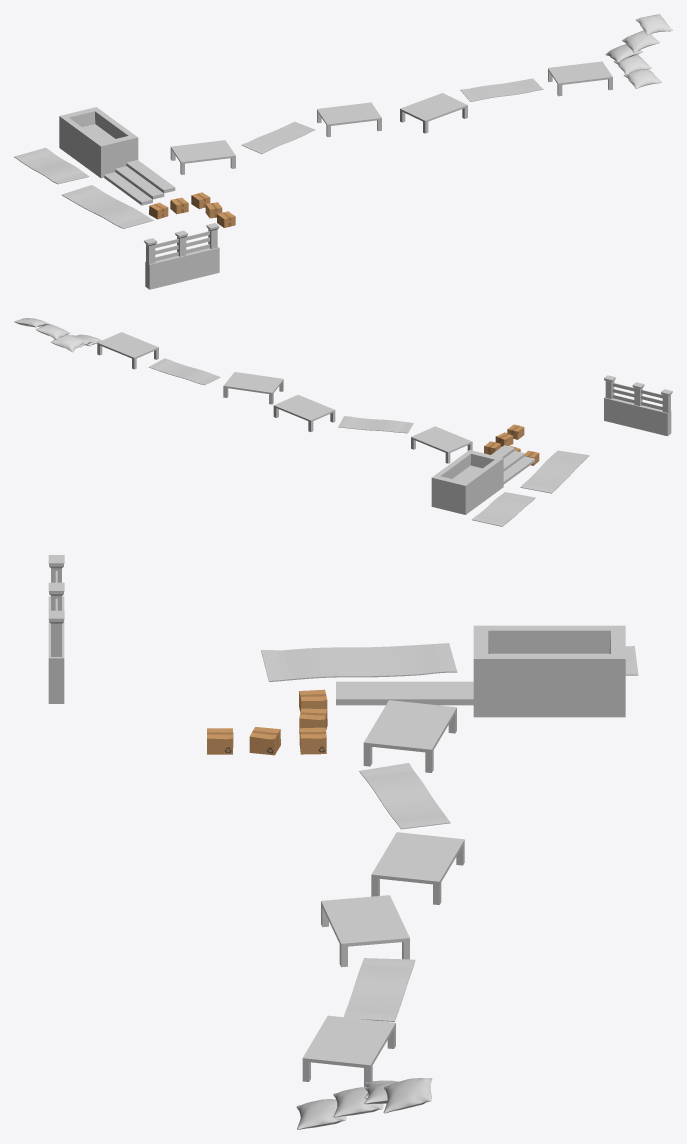
Rendered from ROOMlava.fbx.
The picture shows the model from 3 angles, top to bottom: view 1: azimuth 30°, elevation 25°; view 2: azimuth 150°, elevation 25°; view 3: azimuth 270°, elevation 25°; orthographic projection. The views are drawn at different scales.
Visible parts, largest first — view 1: lavaBox, Cube.003, Cube.015, Cube.014, Cube.023, Cube.019, Cube.024, Cube.022, Cube.026, Cube.025, Cube.017, Cube.018 (+5 smaller); view 2: lavaBox, Cube.003, Cube.015, Cube.014, Cube.022, Cube.024, Cube.023, Cube.019, Cube.025, Cube.026, Cube.016, Pillow_Left.002; view 3: lavaBox, Cube.015, Cube.019, Cube.022, Cube.024, Cube.023, Cube.025, Cube.026, Cube.018, Pillow_Left.004, Cube.003, Pillow_Left (+1 smaller).
Part boxes in pixels (x1,y1,x2,y2): lavaBox: (59, 107, 138, 178); Cube.003: (145, 247, 219, 289); Cube.015: (62, 185, 153, 228); Cube.014: (14, 148, 89, 184); Cube.023: (400, 93, 467, 133); Cube.019: (170, 140, 235, 174); Cube.024: (548, 61, 612, 96); Cube.022: (317, 102, 381, 137); Cube.026: (460, 78, 543, 101); Cube.025: (241, 121, 315, 154); Cube.017: (115, 166, 164, 199); Cube.018: (126, 160, 175, 193); lavaBox: (431, 450, 503, 514); Cube.003: (604, 397, 671, 436); Cube.015: (520, 450, 589, 493); Cube.014: (472, 492, 535, 526); Cube.022: (273, 395, 335, 431); Cube.024: (97, 332, 158, 369); Cube.023: (223, 372, 283, 404); Cube.019: (411, 426, 472, 463); Cube.025: (338, 416, 413, 433); Cube.026: (148, 358, 220, 385); Cube.016: (503, 456, 534, 484); Pillow_Left.002: (51, 334, 86, 352); lavaBox: (473, 625, 625, 717); Cube.015: (261, 643, 457, 681); Cube.019: (363, 700, 456, 772); Cube.022: (371, 832, 464, 904); Cube.024: (302, 1015, 395, 1087); Cube.023: (321, 895, 409, 967); Cube.025: (359, 763, 450, 829); Cube.026: (343, 958, 415, 1021); Cube.018: (336, 689, 473, 705); Pillow_Left.004: (383, 1078, 431, 1113); Cube.003: (48, 596, 64, 703); Pillow_Left: (296, 1099, 346, 1129).
Bounding box in the file's own units: 42110 × 3362 × 19087.
